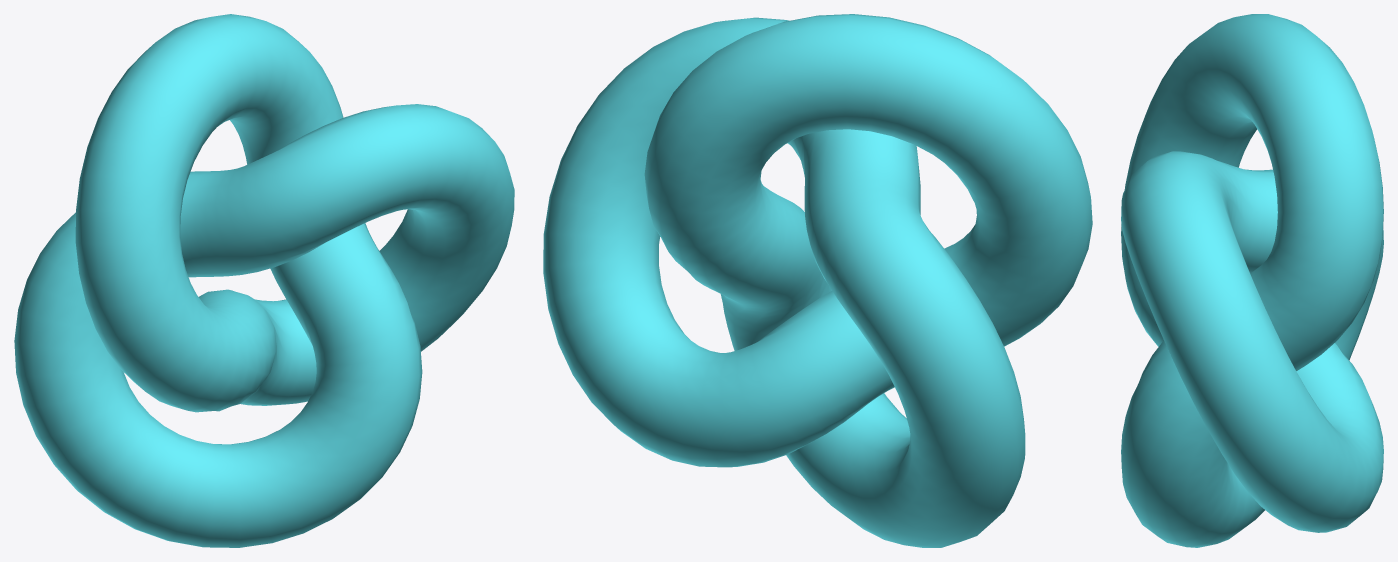
Rendered from torus_sculpt.glb.
3 views of the same model, side by side, from view 1: azimuth 30°, elevation 25°; view 2: azimuth 150°, elevation 25°; view 3: azimuth 270°, elevation 25° (orthographic). The views are drawn at different scales.
Size of the model in its own units: 2.36 by 2.45 by 1.17.
